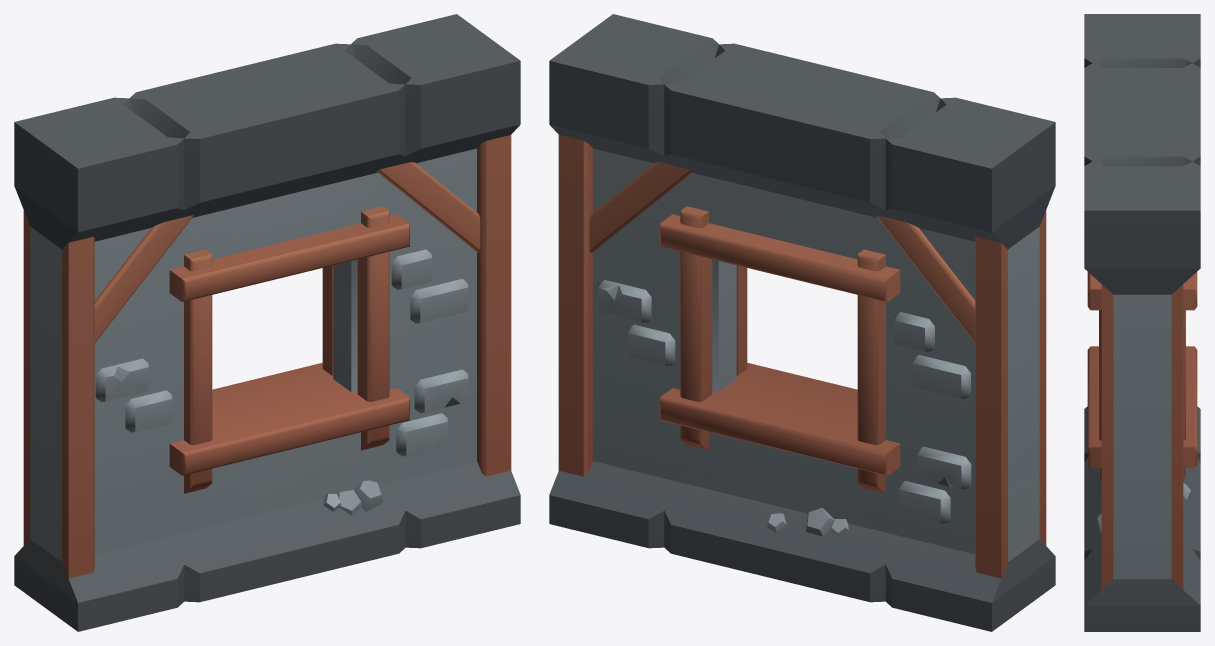
The model's file is kaykit-dungeon-remastered-wall-window-open-scaffold-gltf.glb.
The picture shows the model from 3 angles, left to right: view 1: azimuth 30°, elevation 25°; view 2: azimuth 150°, elevation 25°; view 3: azimuth 270°, elevation 25°; orthographic projection. The views are drawn at different scales.
Parts seen in each view (by area): view 1: wall_window_open_scaffold; view 2: wall_window_open_scaffold; view 3: wall_window_open_scaffold.
Boxes of the visible parts, box(x1,y1,x2,y2) form: wall_window_open_scaffold: box(14, 14, 520, 631); wall_window_open_scaffold: box(549, 14, 1055, 631); wall_window_open_scaffold: box(1084, 14, 1200, 631).
Size of the model in its own units: 4 by 4 by 1.
1 material, 1 textured.
